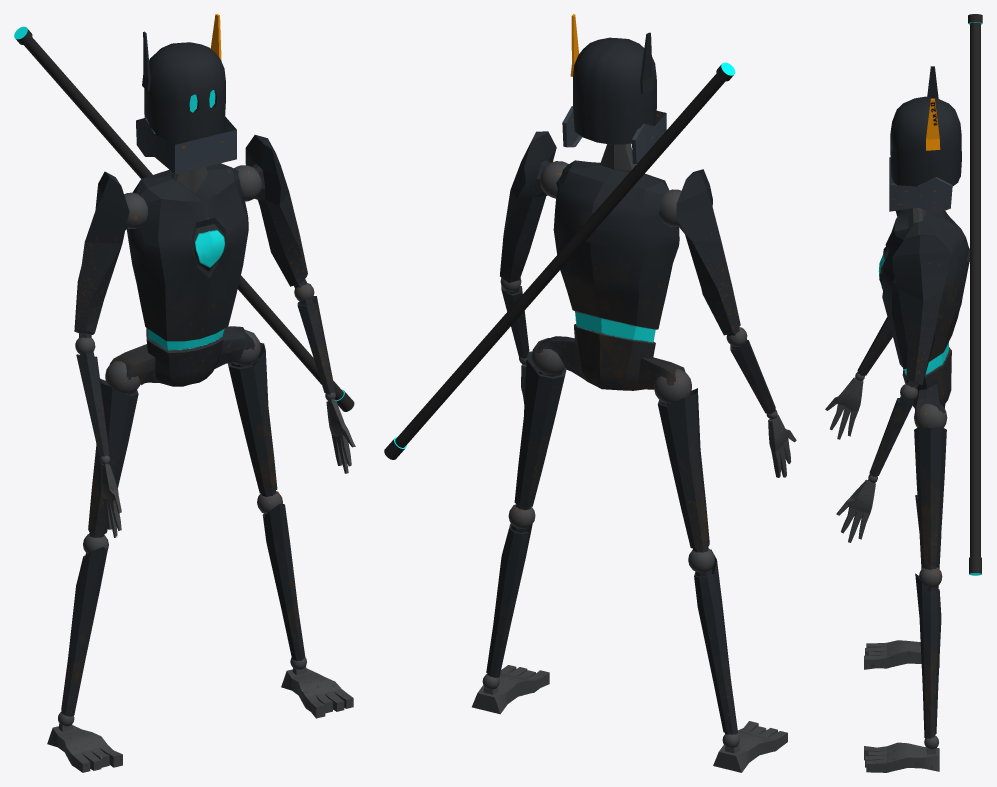
The model's file is Model fpx.fbx.
3 renders of one model, left to right at view 1: azimuth 30°, elevation 25°; view 2: azimuth 150°, elevation 25°; view 3: azimuth 270°, elevation 25°, orthographic. The views are drawn at different scales.
Visible parts, largest first — view 1: polySurface43, pCube1, polySurface47, polySurface39, pCylinder7, polySurface59, polySurface13, polySurface57, pCube2, polySurface23, polySurface19, polySurface21 (+7 smaller); view 2: polySurface43, pCube1, pCylinder7, polySurface47, polySurface57, polySurface39, polySurface59, polySurface13, polySurface23, polySurface21, polySurface19, pCube2 (+5 smaller); view 3: polySurface43, pCylinder7, pCube1, polySurface39, polySurface59, polySurface23, polySurface21, pCube2, polySurface19, polySurface31, polySurface54, polySurface52 (+3 smaller).
Part boxes in pixels (<box>): polySurface43: <box>109,163,255,386</box>; pCube1: <box>142,14,225,144</box>; polySurface47: <box>74,171,129,338</box>; polySurface39: <box>245,135,307,288</box>; pCylinder7: <box>14,26,354,411</box>; polySurface59: <box>227,342,277,496</box>; polySurface13: <box>61,547,107,716</box>; polySurface57: <box>88,378,138,537</box>; pCube2: <box>136,116,236,174</box>; polySurface23: <box>262,504,305,660</box>; polySurface19: <box>47,723,122,772</box>; polySurface21: <box>281,666,353,718</box>; polySurface43: <box>536,143,685,390</box>; pCube1: <box>570,14,656,144</box>; pCylinder7: <box>384,62,735,459</box>; polySurface47: <box>676,169,740,335</box>; polySurface57: <box>657,388,709,552</box>; polySurface39: <box>500,131,556,282</box>; polySurface59: <box>514,351,566,510</box>; polySurface13: <box>694,549,737,734</box>; polySurface23: <box>486,523,532,678</box>; polySurface21: <box>472,665,549,714</box>; polySurface19: <box>713,721,787,772</box>; pCube2: <box>562,106,666,164</box>; polySurface43: <box>878,207,969,415</box>; pCylinder7: <box>966,14,982,575</box>; pCube1: <box>890,66,961,186</box>; polySurface39: <box>892,234,950,388</box>; polySurface59: <box>914,427,946,569</box>; polySurface23: <box>915,573,941,738</box>; polySurface21: <box>864,742,939,772</box>; pCube2: <box>889,157,952,213</box>; polySurface19: <box>864,640,939,669</box>; polySurface31: <box>836,479,875,542</box>; polySurface54: <box>869,396,914,477</box>; polySurface52: <box>825,377,863,439</box>.
Bounding box in the file's own units: 5.19 × 10.32 × 2.3.
Materials: 3 (3 with a texture image).
